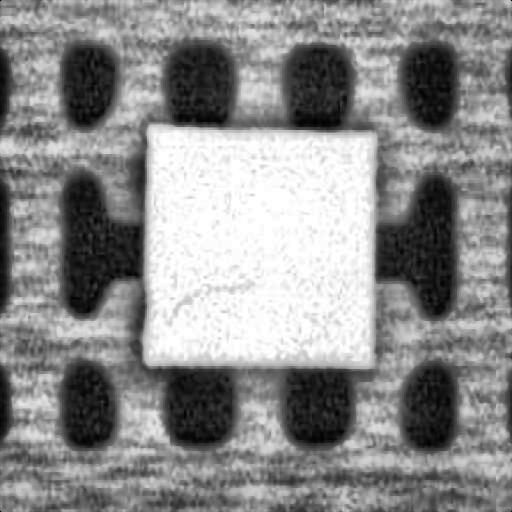DIE_CRACK: (166, 273, 254, 321)
